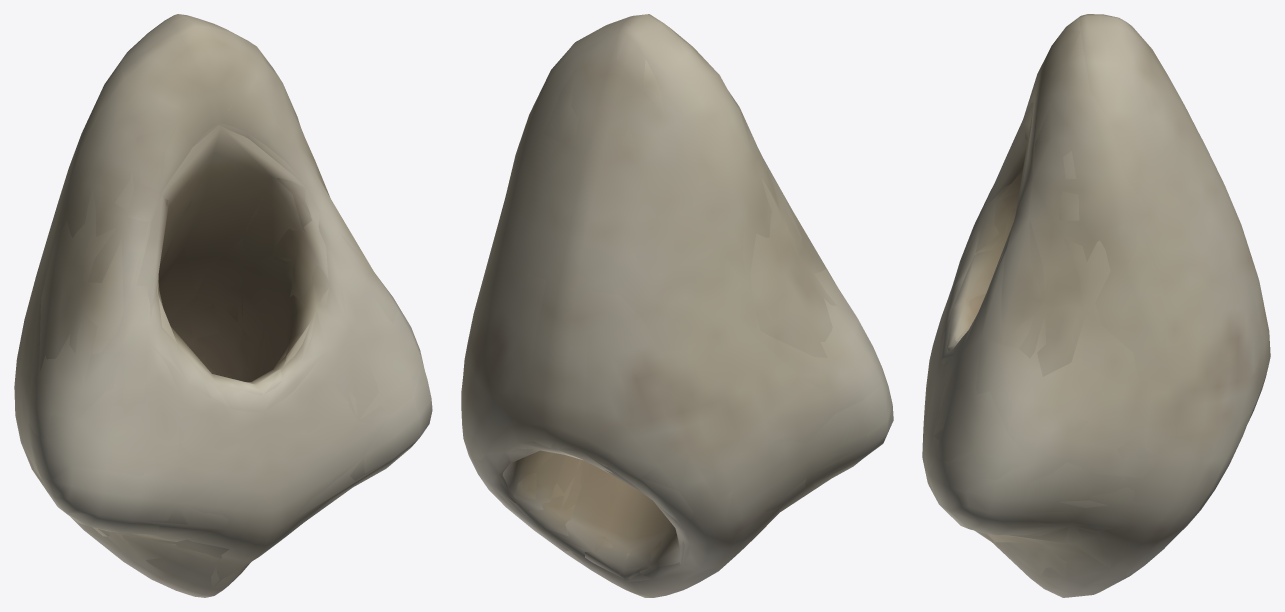
Rendered from vertebra cervicalis 1 atlas.fbx.
The picture shows the model from 3 angles, left to right: view 1: azimuth 30°, elevation 25°; view 2: azimuth 150°, elevation 25°; view 3: azimuth 270°, elevation 25°; orthographic projection. The views are drawn at different scales.
Parts seen in each view (by area): view 1: vertebra cervicalis 1 atlas high, vertebra cervicalis 1 atlas, vertebra cervicalis 1 atlas low; view 2: vertebra cervicalis 1 atlas high, vertebra cervicalis 1 atlas, vertebra cervicalis 1 atlas low; view 3: vertebra cervicalis 1 atlas high, vertebra cervicalis 1 atlas, vertebra cervicalis 1 atlas low.
Boxes of the visible parts, x1=… form: vertebra cervicalis 1 atlas high: x1=14, y1=14, x2=431, y2=597; vertebra cervicalis 1 atlas: x1=19, y1=14, x2=432, y2=597; vertebra cervicalis 1 atlas low: x1=38, y1=97, x2=328, y2=558; vertebra cervicalis 1 atlas high: x1=461, y1=14, x2=893, y2=597; vertebra cervicalis 1 atlas: x1=461, y1=20, x2=893, y2=581; vertebra cervicalis 1 atlas low: x1=502, y1=150, x2=837, y2=579; vertebra cervicalis 1 atlas high: x1=922, y1=14, x2=1270, y2=597; vertebra cervicalis 1 atlas: x1=926, y1=14, x2=1263, y2=593; vertebra cervicalis 1 atlas low: x1=947, y1=102, x2=1115, y2=546.
Size of the model in its own units: 0.881 by 1.27 by 0.6885.
Materials: 1 (1 with a texture image).
